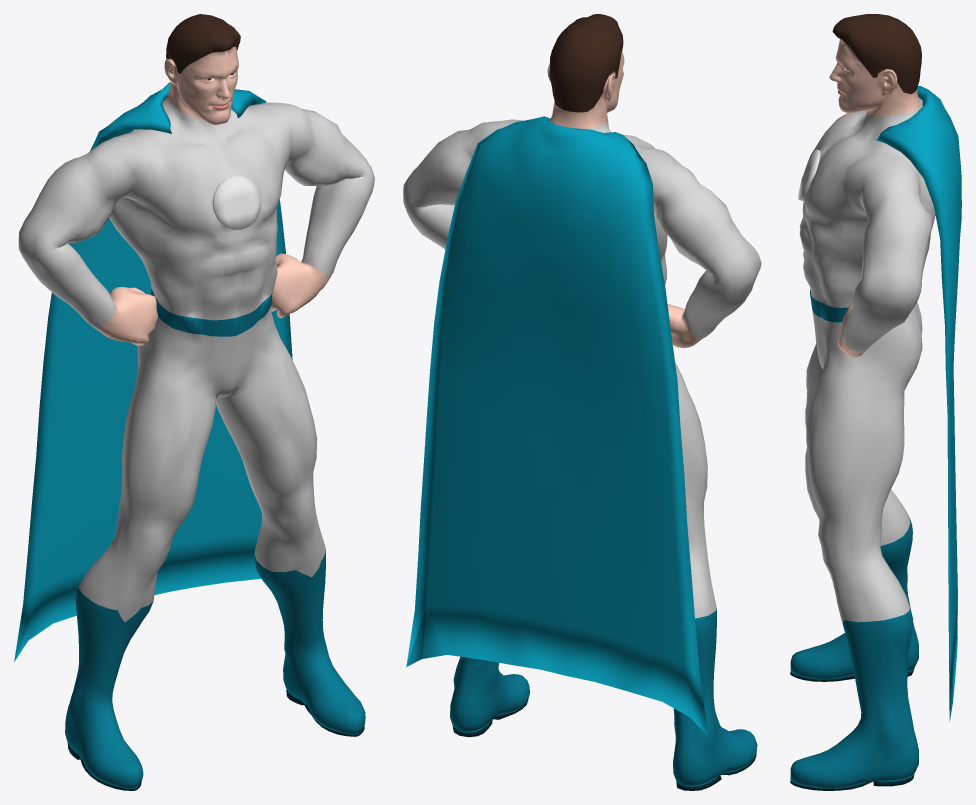
Rendered from superopenmaterialsshadeswrap.fbx.
3 renders of one model, left to right at view 1: azimuth 30°, elevation 25°; view 2: azimuth 150°, elevation 25°; view 3: azimuth 270°, elevation 25°, orthographic. The views are drawn at different scales.
Parts seen in each view (by area): view 1: SuperMan; view 2: SuperMan; view 3: SuperMan.
Boxes of the visible parts, x1,y1,x2,y2 form: SuperMan: [14, 14, 374, 790]; SuperMan: [403, 14, 761, 790]; SuperMan: [790, 14, 961, 790].
Size of the model in its own units: 39.56 by 78.7 by 17.2.
